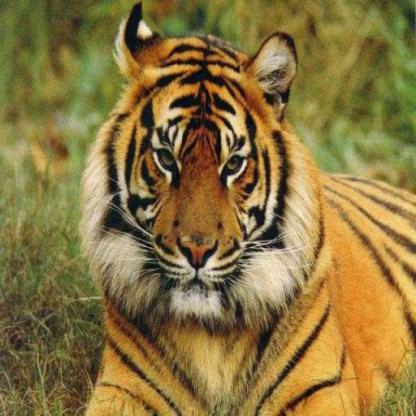Tiger: (38, 0, 416, 415)
